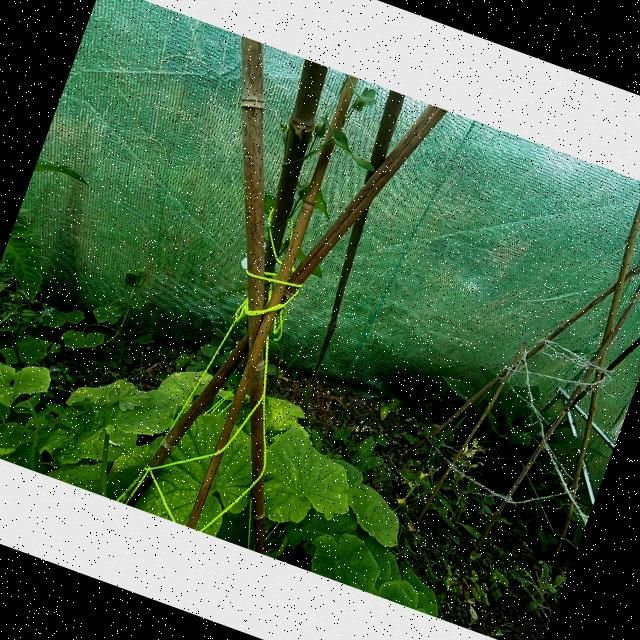Flowers: (394, 494, 408, 507), (416, 472, 426, 482), (405, 480, 414, 490)
